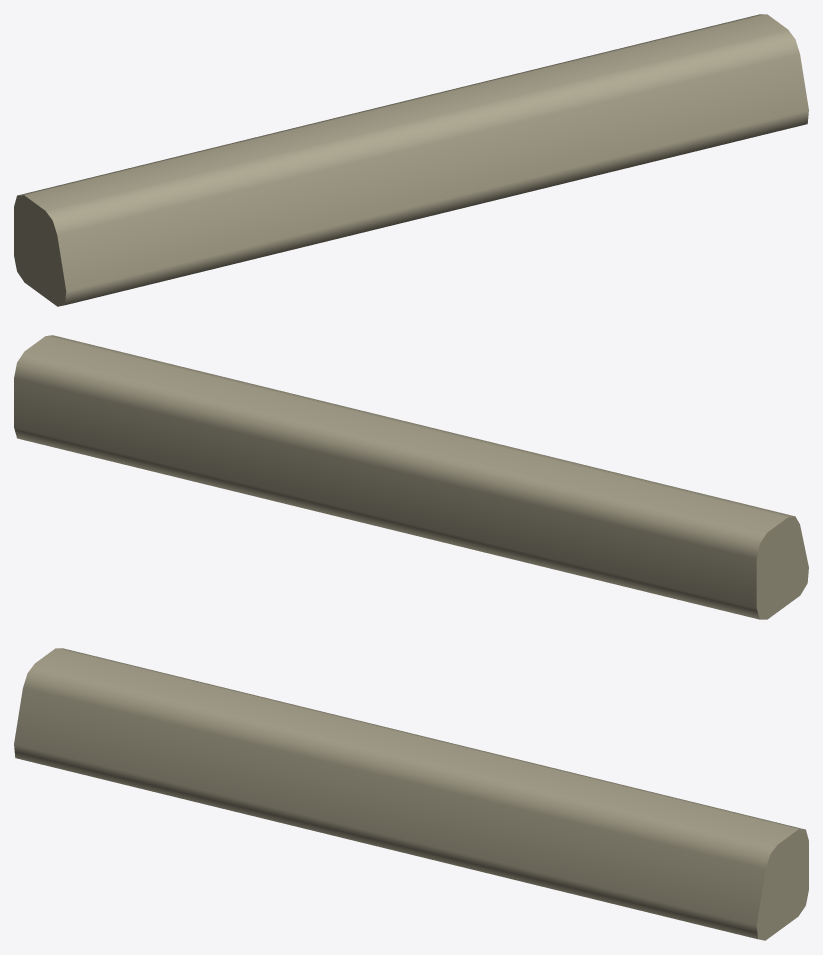
The model's file is PS_CarBumper01.fbx.
3 renders of one model, top to bottom at view 1: azimuth 30°, elevation 25°; view 2: azimuth 150°, elevation 25°; view 3: azimuth 330°, elevation 25°, orthographic.
Visible parts, largest first — view 1: PS_CarBumper01; view 2: PS_CarBumper01; view 3: PS_CarBumper01.
Boxes of the visible parts, x1,y1,x2,y2 form: PS_CarBumper01: (14, 14, 808, 306); PS_CarBumper01: (14, 335, 808, 619); PS_CarBumper01: (14, 648, 808, 940).
Bounding box in the file's own units: 1.19 × 0.1333 × 0.1449.
